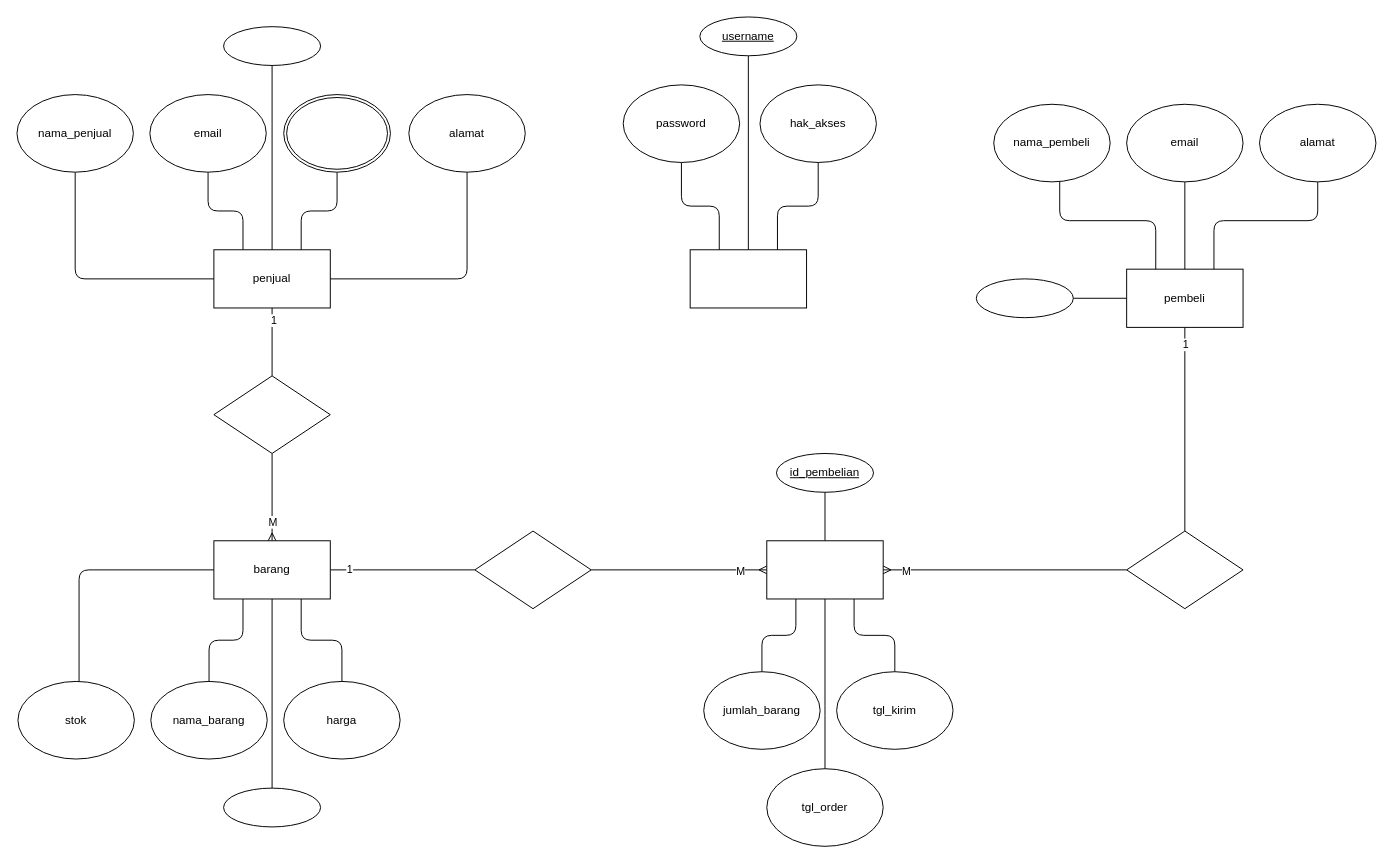
Some shapes in this 1393 by 863 pixel diagram are drawn without their labels. Here are the shapes that lost their labels. From the top down, the box of each, then its label:
(223, 26, 321, 65): id_penjual
(283, 94, 390, 172): no_telp
(689, 249, 807, 308): admin
(975, 278, 1073, 318): id_pembeli
(213, 375, 330, 453): menjual
(474, 530, 591, 609): pada
(766, 540, 883, 599): order
(1126, 530, 1243, 609): melakukan
(223, 787, 321, 827): id_barang
